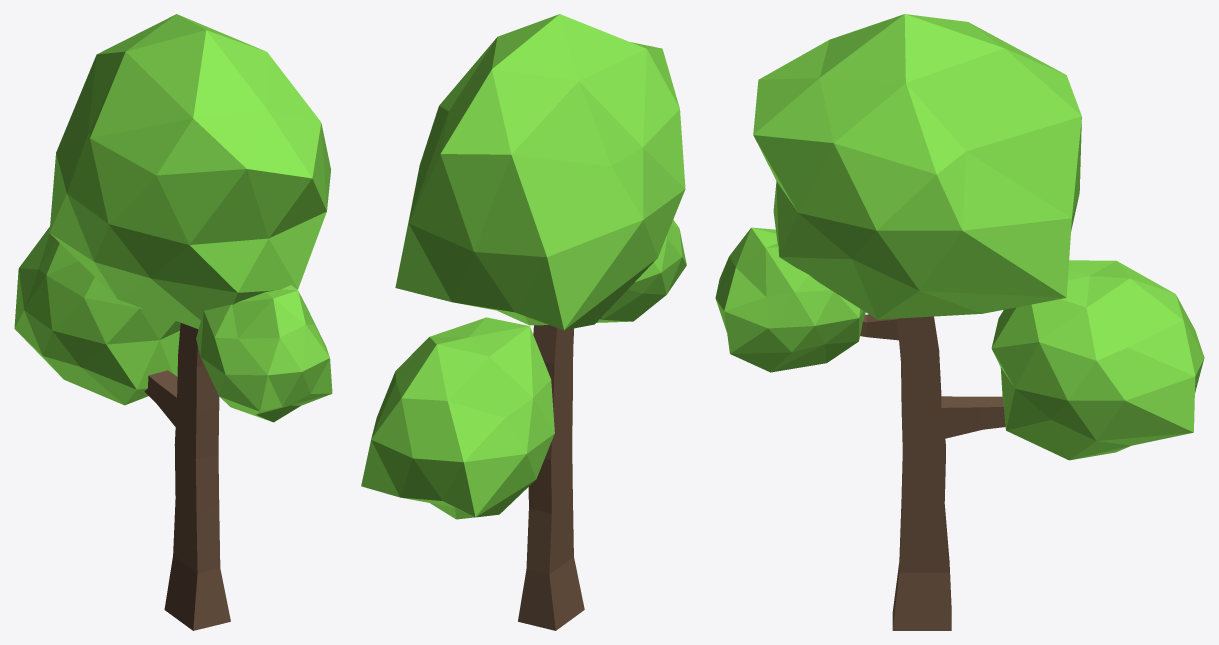
Rendered from Tree.fbx.
3 renders of one model, left to right at view 1: azimuth 30°, elevation 25°; view 2: azimuth 150°, elevation 25°; view 3: azimuth 270°, elevation 25°, orthographic. The views are drawn at different scales.
Parts seen in each view (by area): view 1: Leaves.002, Leaves, Trunk, Leaves.001; view 2: Leaves.002, Leaves, Trunk, Leaves.001; view 3: Leaves.002, Leaves, Trunk, Leaves.001.
Part boxes in pixels (<box>): Leaves.002: <box>49,14,330,329</box>; Leaves: <box>14,227,180,405</box>; Trunk: <box>144,323,230,630</box>; Leaves.001: <box>196,285,332,422</box>; Leaves.002: <box>395,14,685,330</box>; Leaves: <box>361,317,554,519</box>; Trunk: <box>518,325,584,630</box>; Leaves.001: <box>596,220,686,322</box>; Leaves.002: <box>753,14,1081,319</box>; Leaves: <box>991,260,1204,460</box>; Trunk: <box>860,314,1005,630</box>; Leaves.001: <box>715,227,865,372</box>.
Size of the model in its own units: 587 by 1492 by 1088.
